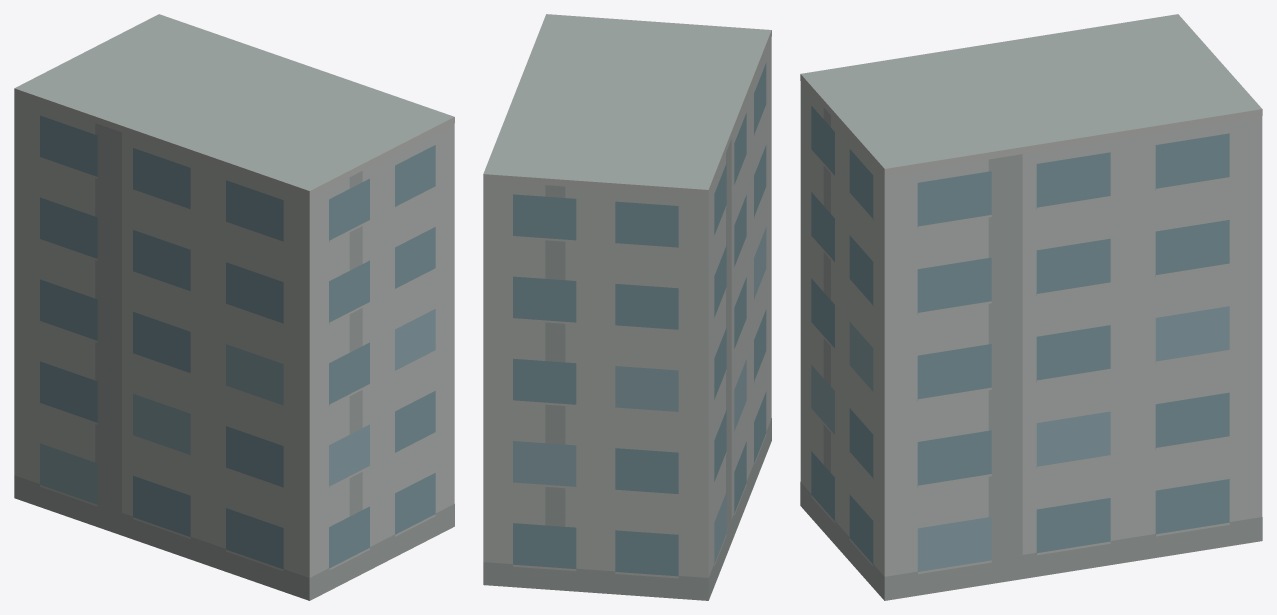
The model's file is residential-c6c11f3e-639d-496a-a39d-603e3bc57922.glb.
3 views of the same model, side by side, from view 1: azimuth 30°, elevation 25°; view 2: azimuth 150°, elevation 25°; view 3: azimuth 270°, elevation 25° (orthographic). The views are drawn at different scales.
Visible parts, largest first — view 1: residential-c6c11f3e-639d-496a-a39d-603e3bc57922.tmp; view 2: residential-c6c11f3e-639d-496a-a39d-603e3bc57922.tmp; view 3: residential-c6c11f3e-639d-496a-a39d-603e3bc57922.tmp.
Part boxes in pixels (bbox=[...]): residential-c6c11f3e-639d-496a-a39d-603e3bc57922.tmp: bbox=[14, 14, 454, 600]; residential-c6c11f3e-639d-496a-a39d-603e3bc57922.tmp: bbox=[483, 14, 771, 600]; residential-c6c11f3e-639d-496a-a39d-603e3bc57922.tmp: bbox=[800, 14, 1262, 600].
Bounding box in the file's own units: 11.55 × 15 × 14.55.
